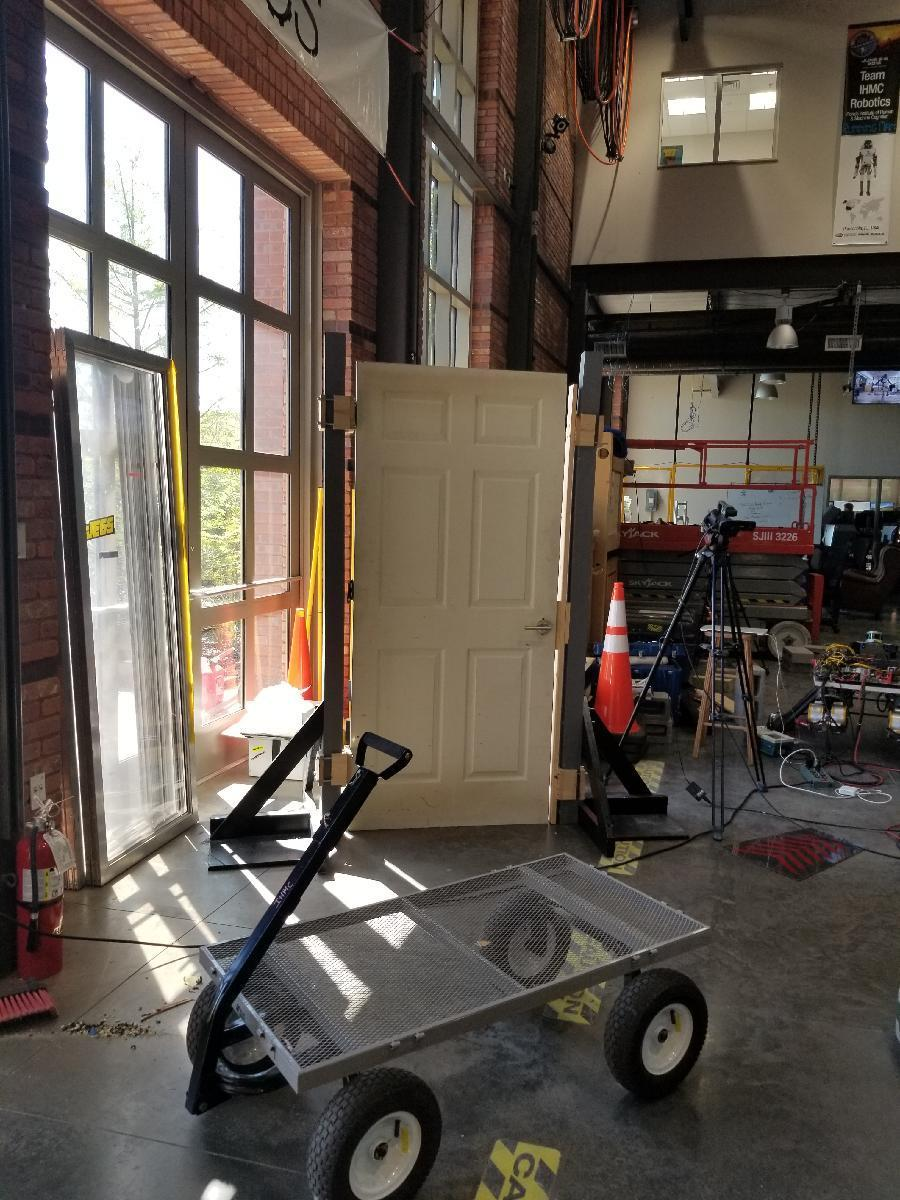door: (356, 356, 562, 828)
handle: (520, 616, 556, 639)
